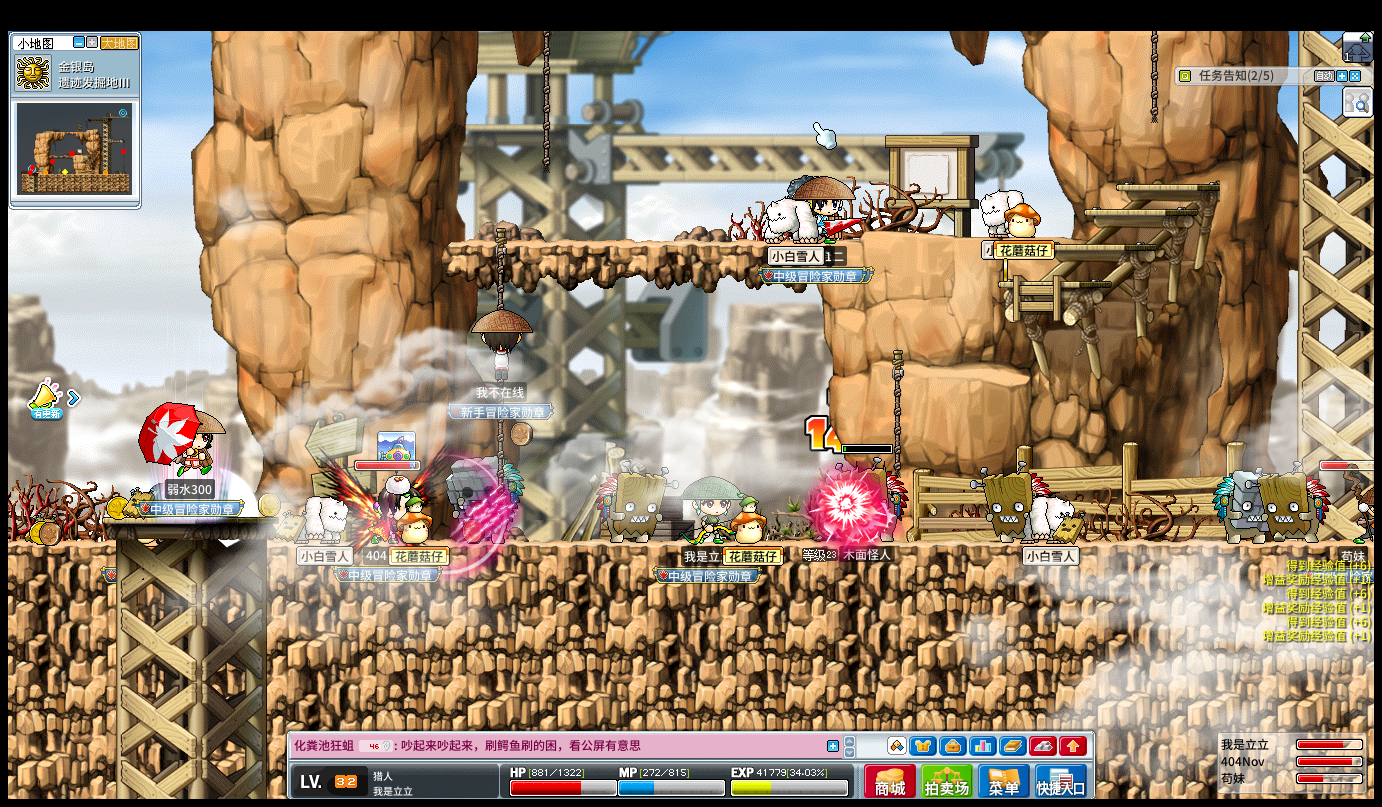floor: (444, 238, 819, 248), (922, 364, 1030, 384), (101, 517, 275, 525), (937, 233, 1082, 242), (995, 280, 1110, 291), (1080, 205, 1196, 215), (7, 541, 113, 550), (995, 280, 1110, 288), (1078, 207, 1191, 215), (1049, 243, 1156, 251), (1115, 184, 1218, 191)
monster: (823, 460, 906, 543), (447, 457, 524, 541), (594, 462, 673, 543), (1255, 467, 1326, 543), (978, 465, 1041, 542), (1212, 470, 1262, 544)
rope: (889, 349, 903, 471), (542, 29, 550, 174), (493, 227, 506, 310), (1148, 29, 1156, 120)
